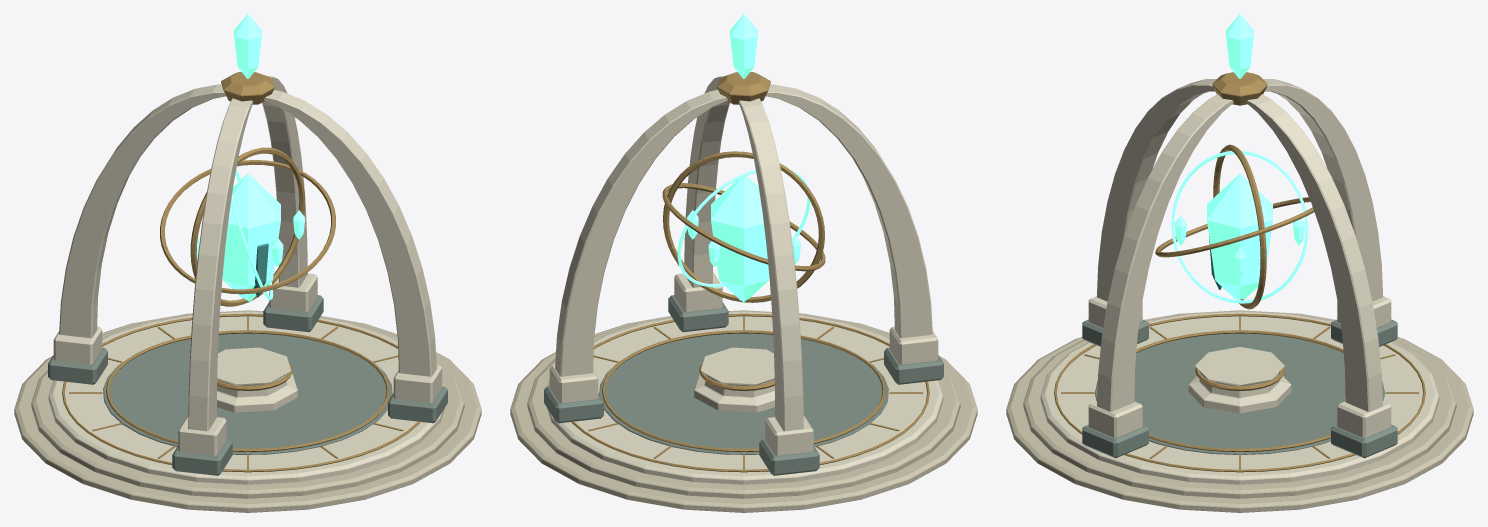
Rendered from sanctuary_green.glb.
3 renders of one model, left to right at view 1: azimuth 30°, elevation 25°; view 2: azimuth 150°, elevation 25°; view 3: azimuth 270°, elevation 25°, orthographic.
Parts seen in each view (by area): view 1: sanctuary_green / mesh; view 2: sanctuary_green / mesh; view 3: sanctuary_green / mesh.
Part boxes in pixels (x1,y1,x2,y2): sanctuary_green / mesh: (14, 14, 481, 512); sanctuary_green / mesh: (510, 14, 977, 512); sanctuary_green / mesh: (1006, 14, 1473, 512).
Size of the model in its own units: 19 by 17.95 by 19.
